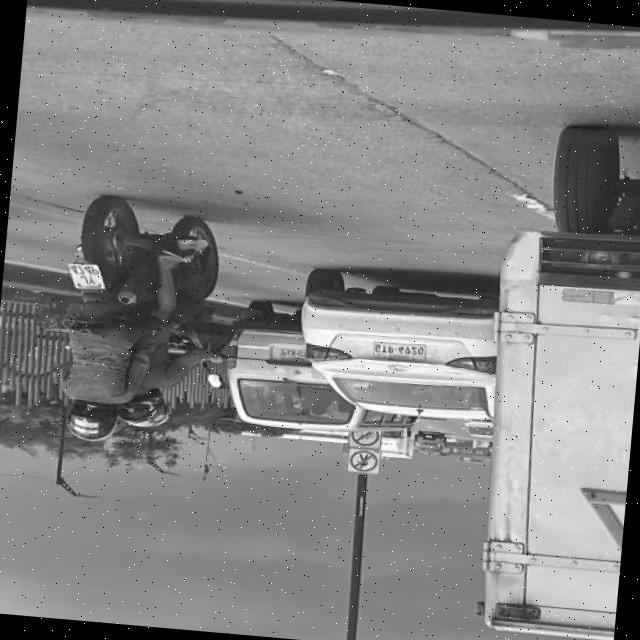Placa: (373, 343, 425, 360), (279, 348, 303, 360)
